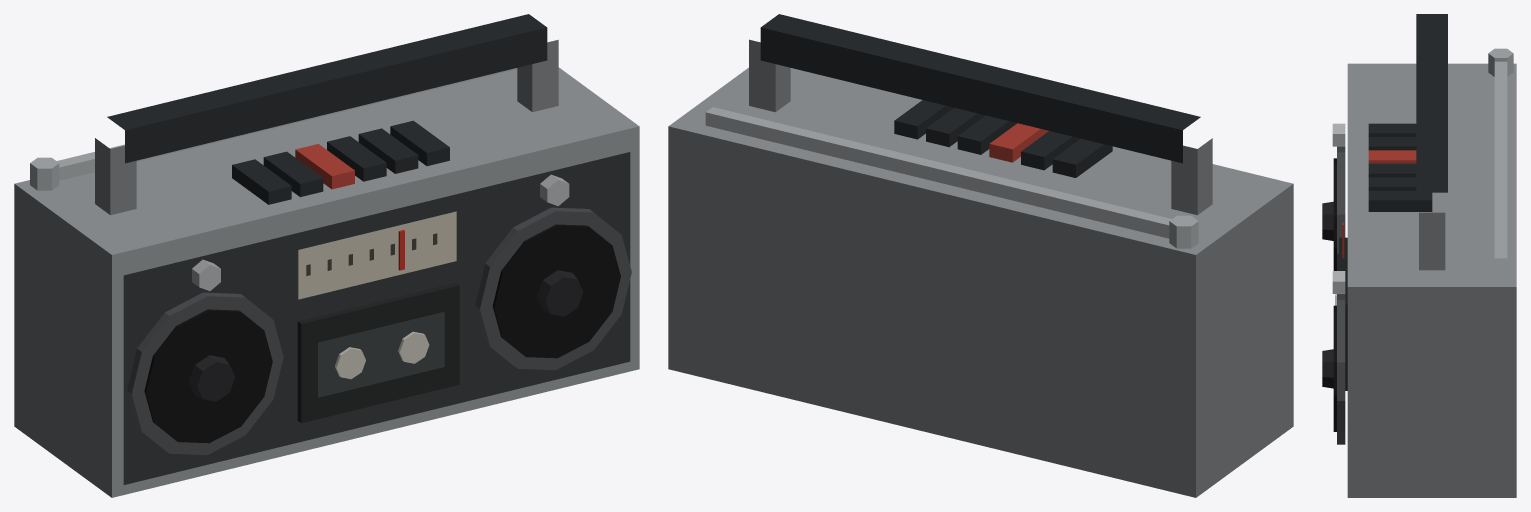
The model's file is radio-set.glb.
3 renders of one model, left to right at view 1: azimuth 30°, elevation 25°; view 2: azimuth 150°, elevation 25°; view 3: azimuth 270°, elevation 25°, orthographic. The views are drawn at different scales.
Visible parts, largest first — view 1: radio-set; view 2: radio-set; view 3: radio-set.
Part boxes in pixels (x1,y1,x2,y2): radio-set: (14,14,639,497); radio-set: (668,14,1293,497); radio-set: (1322,14,1516,497).
Bounding box in the file's own units: 0.5 × 0.295 × 0.184.
